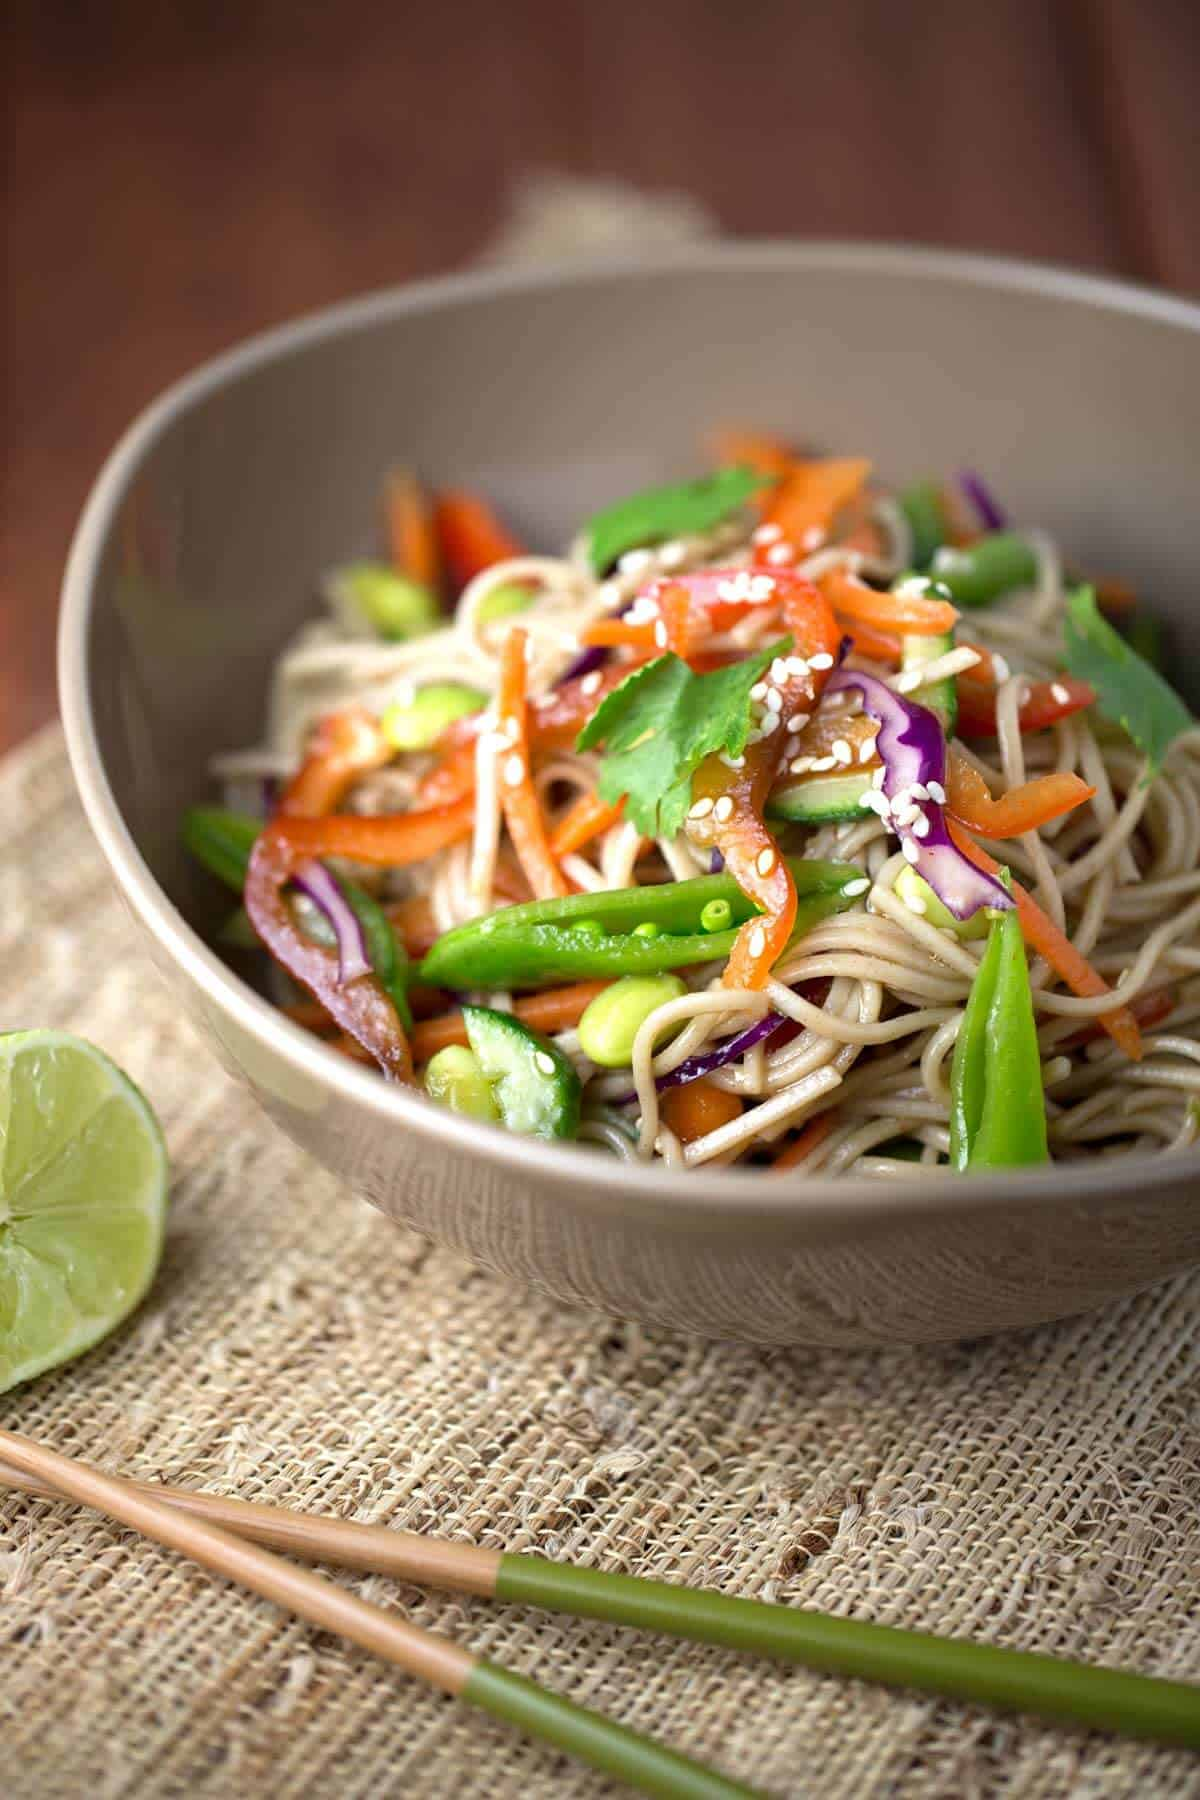Soba: (186, 490, 1200, 1150)
